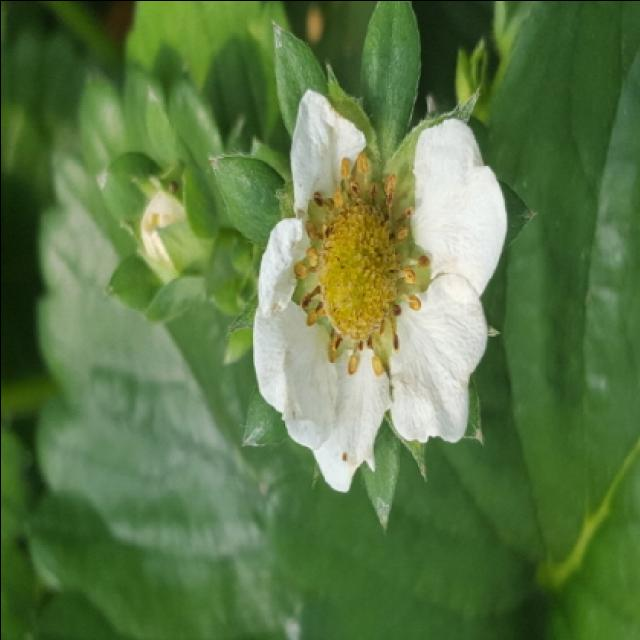Blossom Blight: (290, 151, 433, 380)
